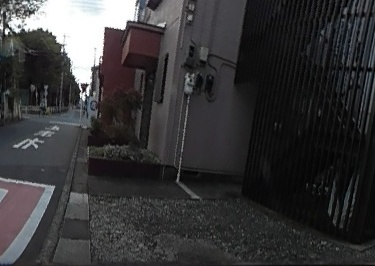person: (38, 98, 47, 115)
